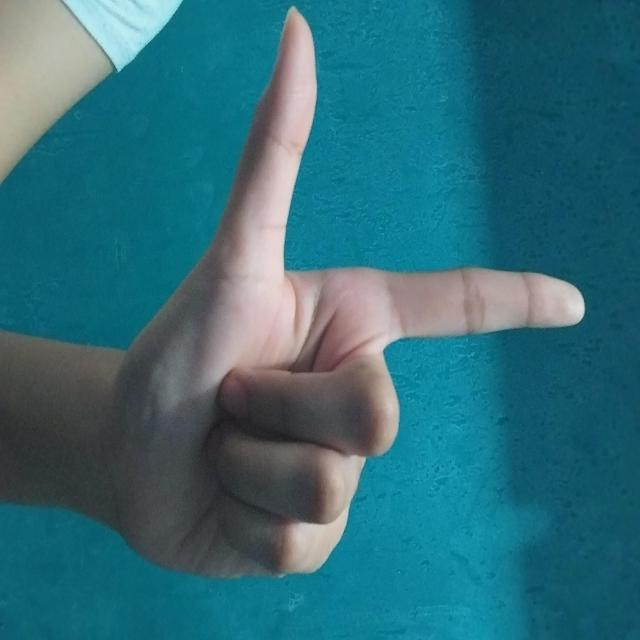L: (12, 54, 585, 525)
